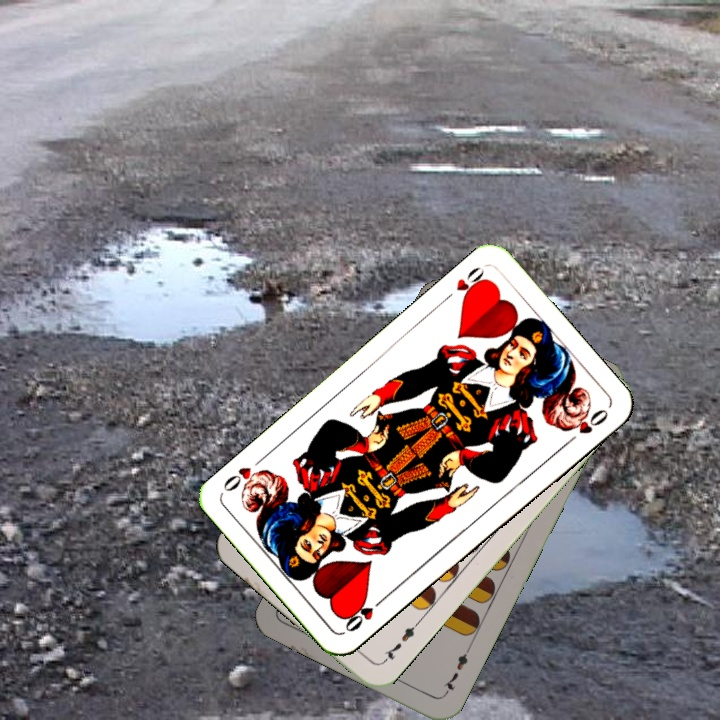E7: (378, 618, 421, 667), (441, 643, 474, 698)
HO: (439, 262, 491, 305), (341, 592, 389, 635)
